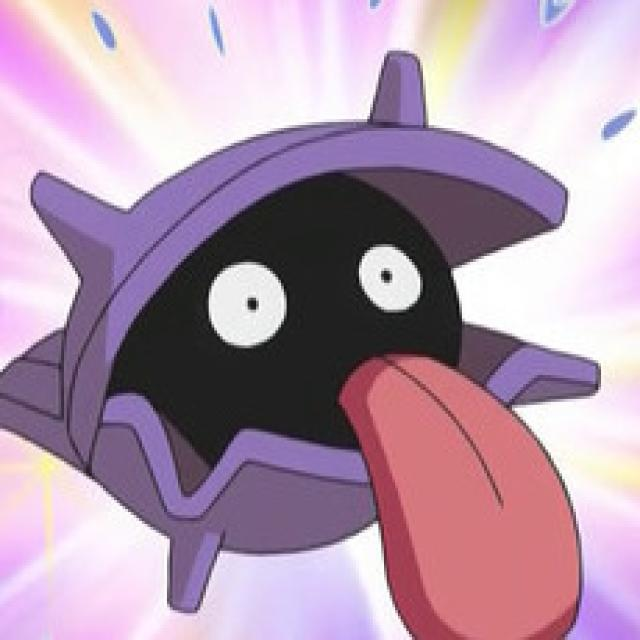Shellder: (28, 78, 600, 634)
